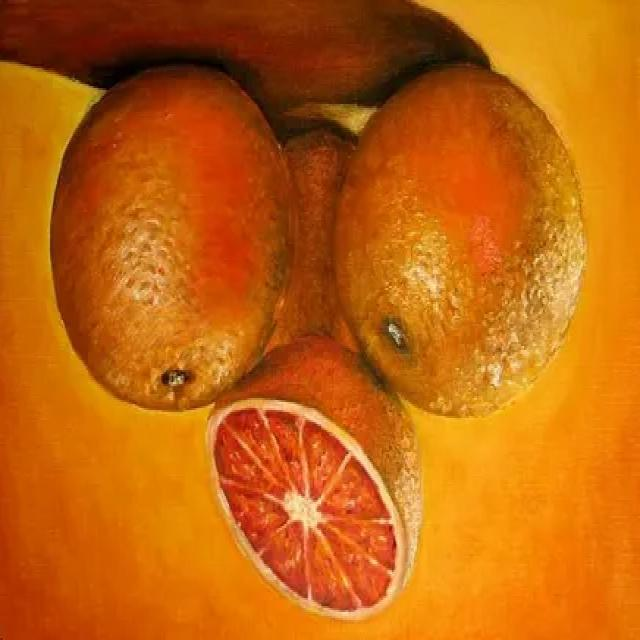orange: (328, 64, 594, 424), (41, 74, 299, 416)
